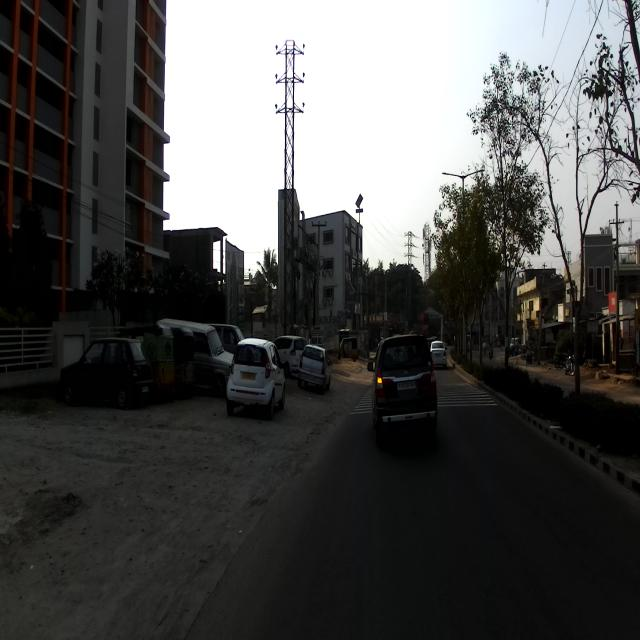car ahead at: (372, 331, 442, 438), (224, 333, 281, 419), (297, 332, 333, 389)
